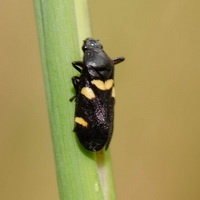insect: (70, 38, 123, 150)
